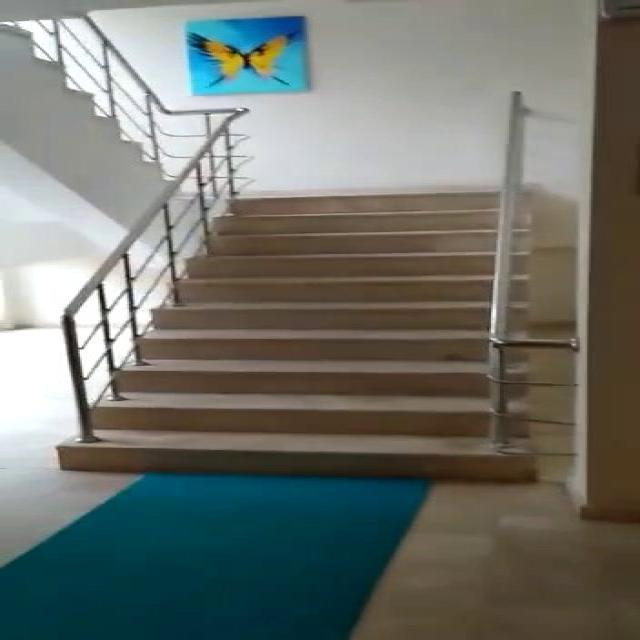stair: (71, 192, 538, 474)
